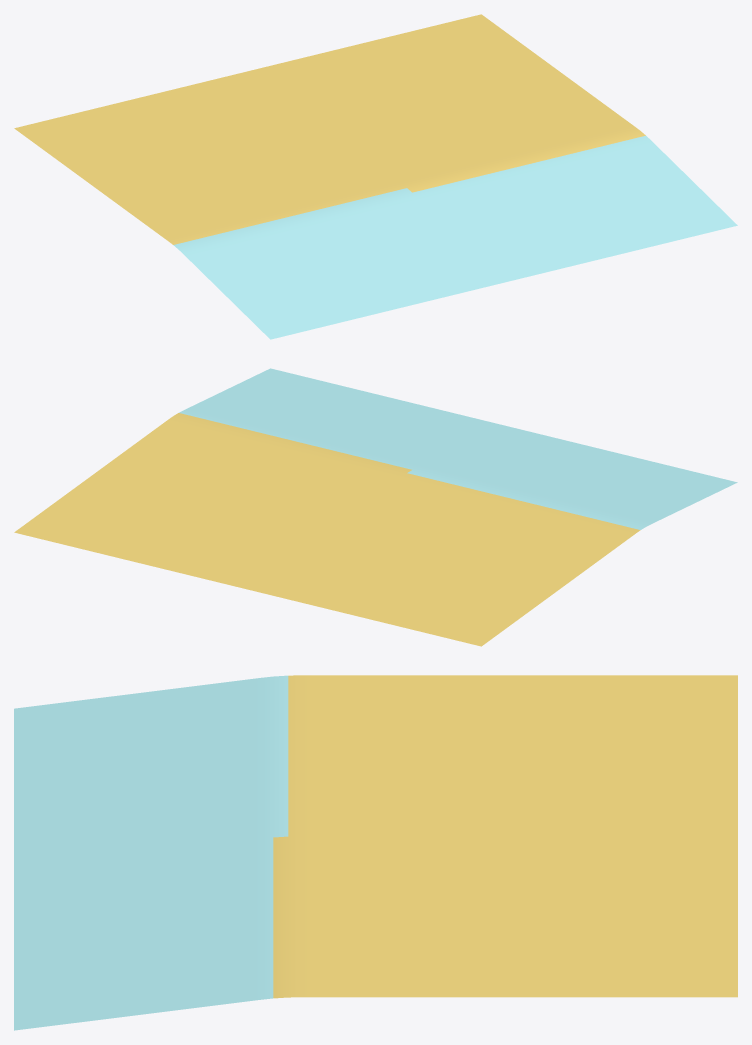
File: Sand.fbx
3 renders of one model, top to bottom at view 1: azimuth 30°, elevation 25°; view 2: azimuth 150°, elevation 25°; view 3: azimuth 270°, elevation 25°, orthographic. The views are drawn at different scales.
Visible parts, largest first — view 1: pPlane2; view 2: pPlane2; view 3: pPlane2.
Boxes of the visible parts, box(x1,y1,x2,y2) form: pPlane2: box(14, 14, 737, 339); pPlane2: box(14, 368, 737, 646); pPlane2: box(14, 675, 737, 1030).
Size of the model in its own units: 86.83 by 4.19 by 82.52.
